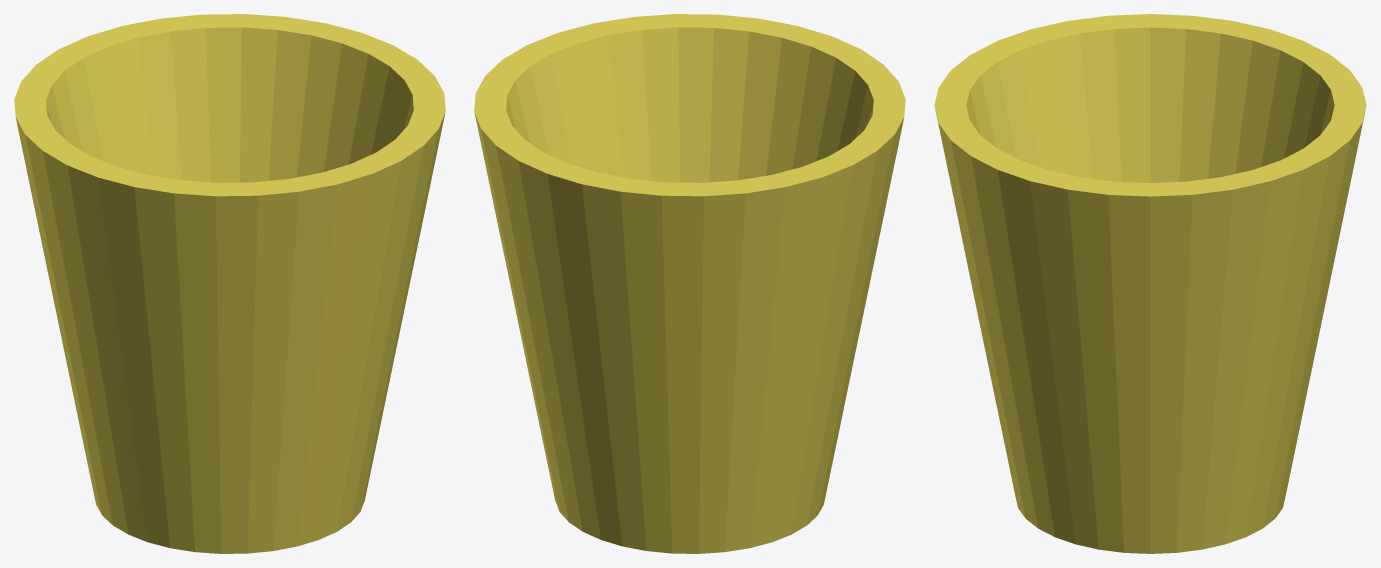
The model's file is Old bin.fbx.
3 renders of one model, left to right at view 1: azimuth 30°, elevation 25°; view 2: azimuth 150°, elevation 25°; view 3: azimuth 270°, elevation 25°, orthographic.
Parts seen in each view (by area): view 1: Cylinder.001; view 2: Cylinder.001; view 3: Cylinder.001.
Part boxes in pixels (<box>): Cylinder.001: <box>14,14,445,553</box>; Cylinder.001: <box>474,14,905,553</box>; Cylinder.001: <box>934,14,1366,553</box>.
Bounding box in the file's own units: 58.81 × 58.81 × 58.81.
